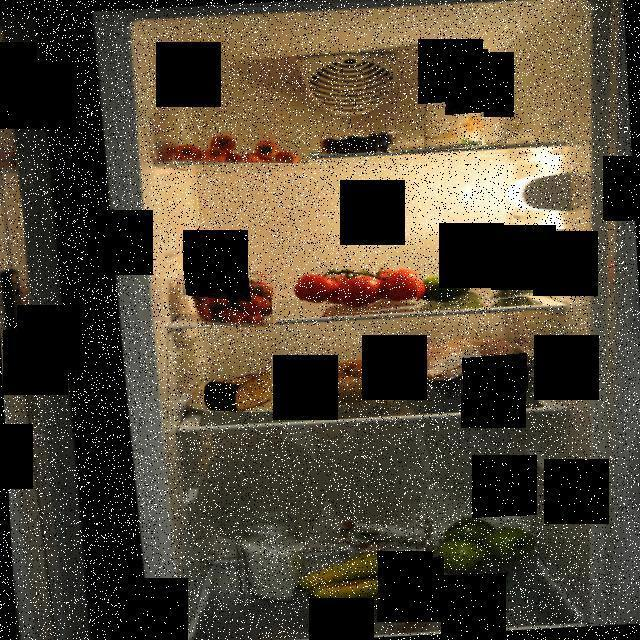apple: (425, 507, 537, 580)
banana: (291, 551, 433, 611)
blueberries: (314, 125, 402, 155)
carrot: (171, 125, 309, 163)
cheese: (204, 366, 281, 412)
chicken: (401, 338, 537, 400)
flour: (340, 510, 444, 572)
lime: (417, 270, 536, 308)
milk: (424, 49, 488, 152)
potato: (304, 353, 408, 413)
strawberries: (180, 266, 276, 327)
sugar: (234, 508, 311, 603)
tomato: (292, 264, 430, 316)
